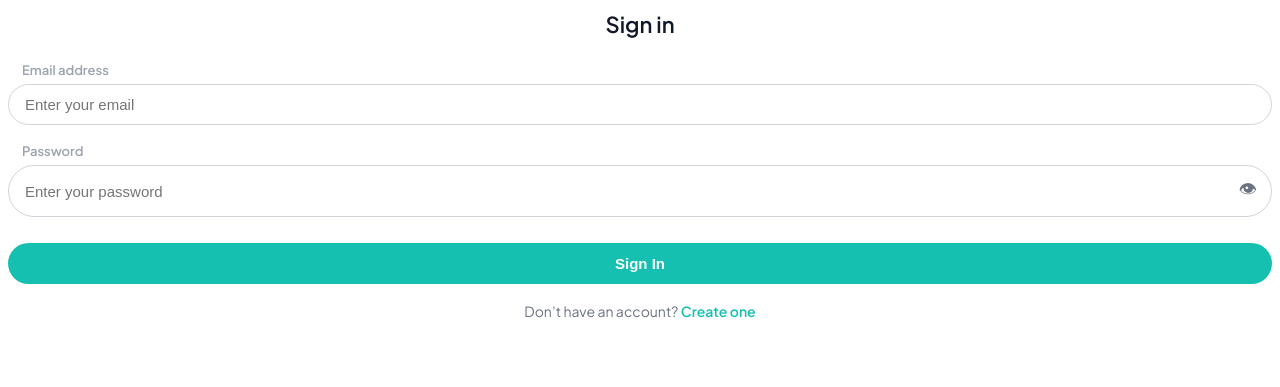
it: Login Component › shows error message on 401 response
Type "user@test.com" into the field labelled "Email address" at (640, 105), box [23,95,1257,114]
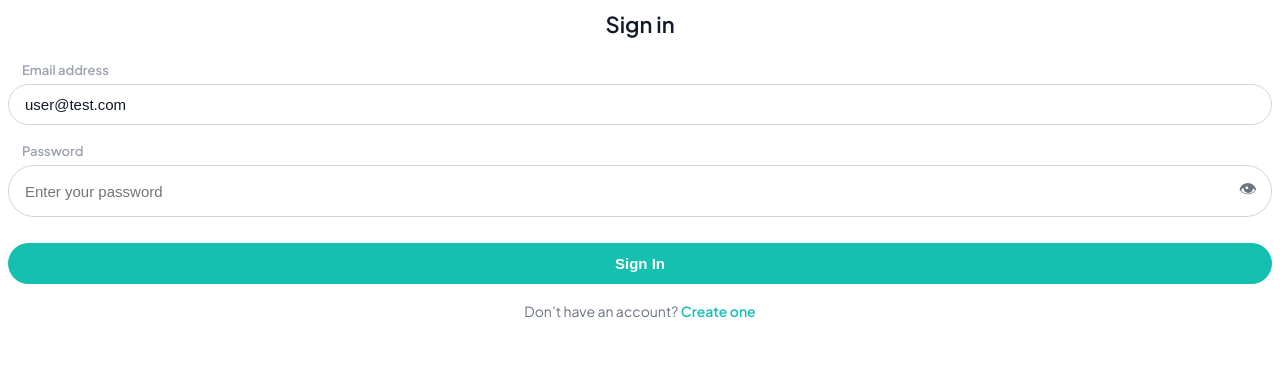
Type "wrongpass" into the password field labelled "Password" at (626, 191), box [23,182,1229,201]
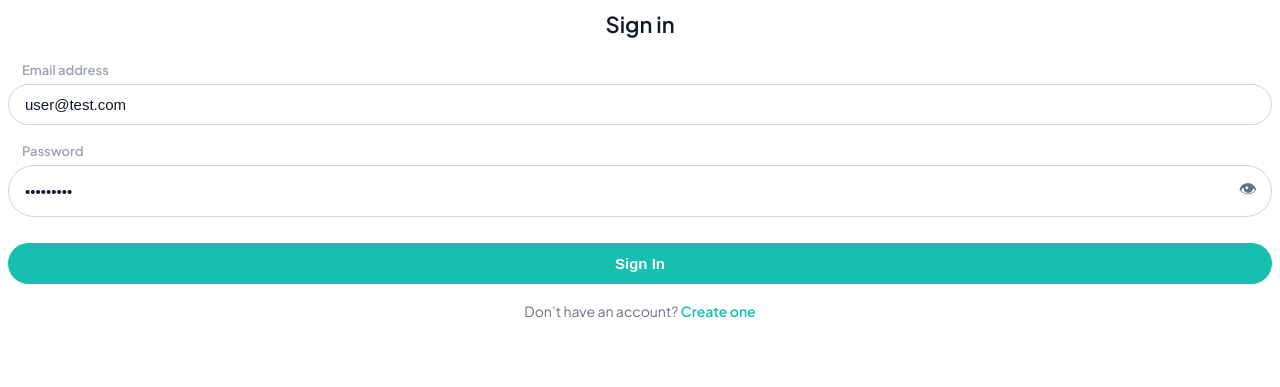
Click the button "Sign In" at (640, 264), box [8,243,1272,284]
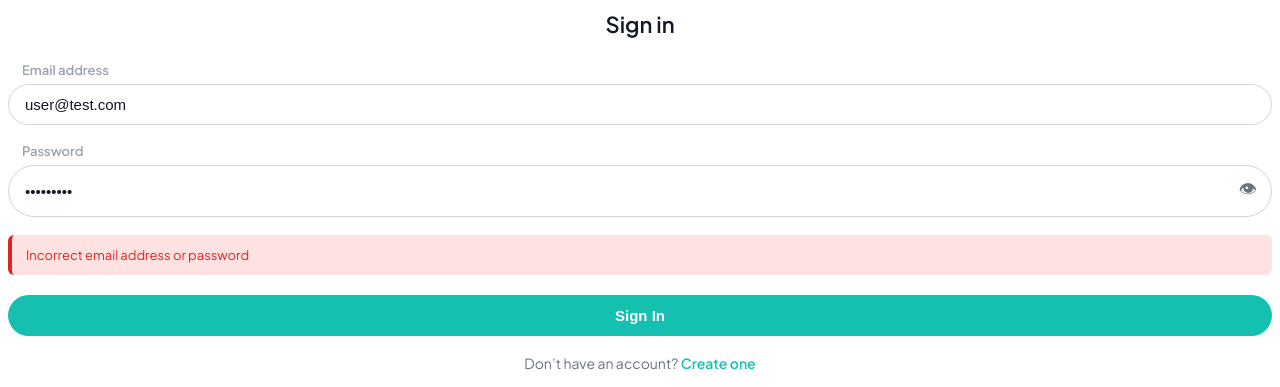
Result: the message reads "Incorrect email address or password" at [26,247,249,263]
